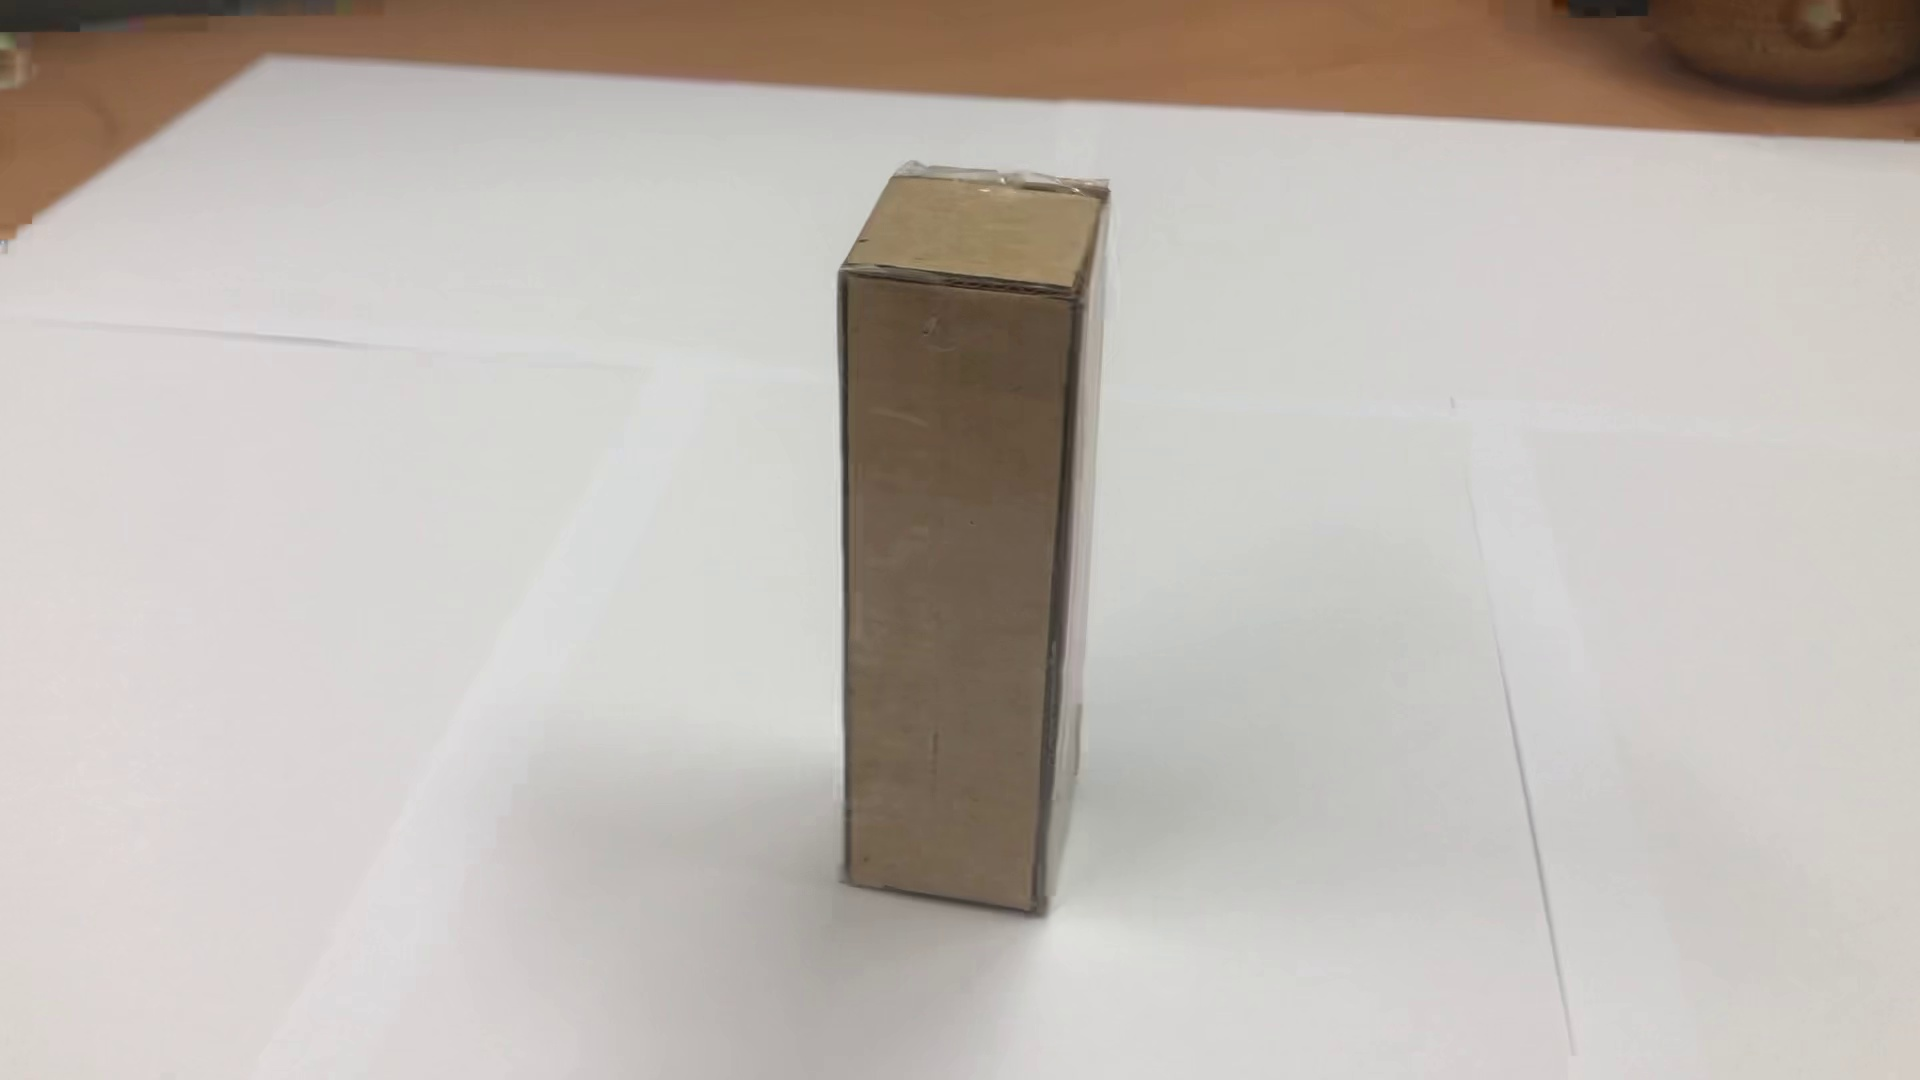box: (814, 148, 1143, 943)
